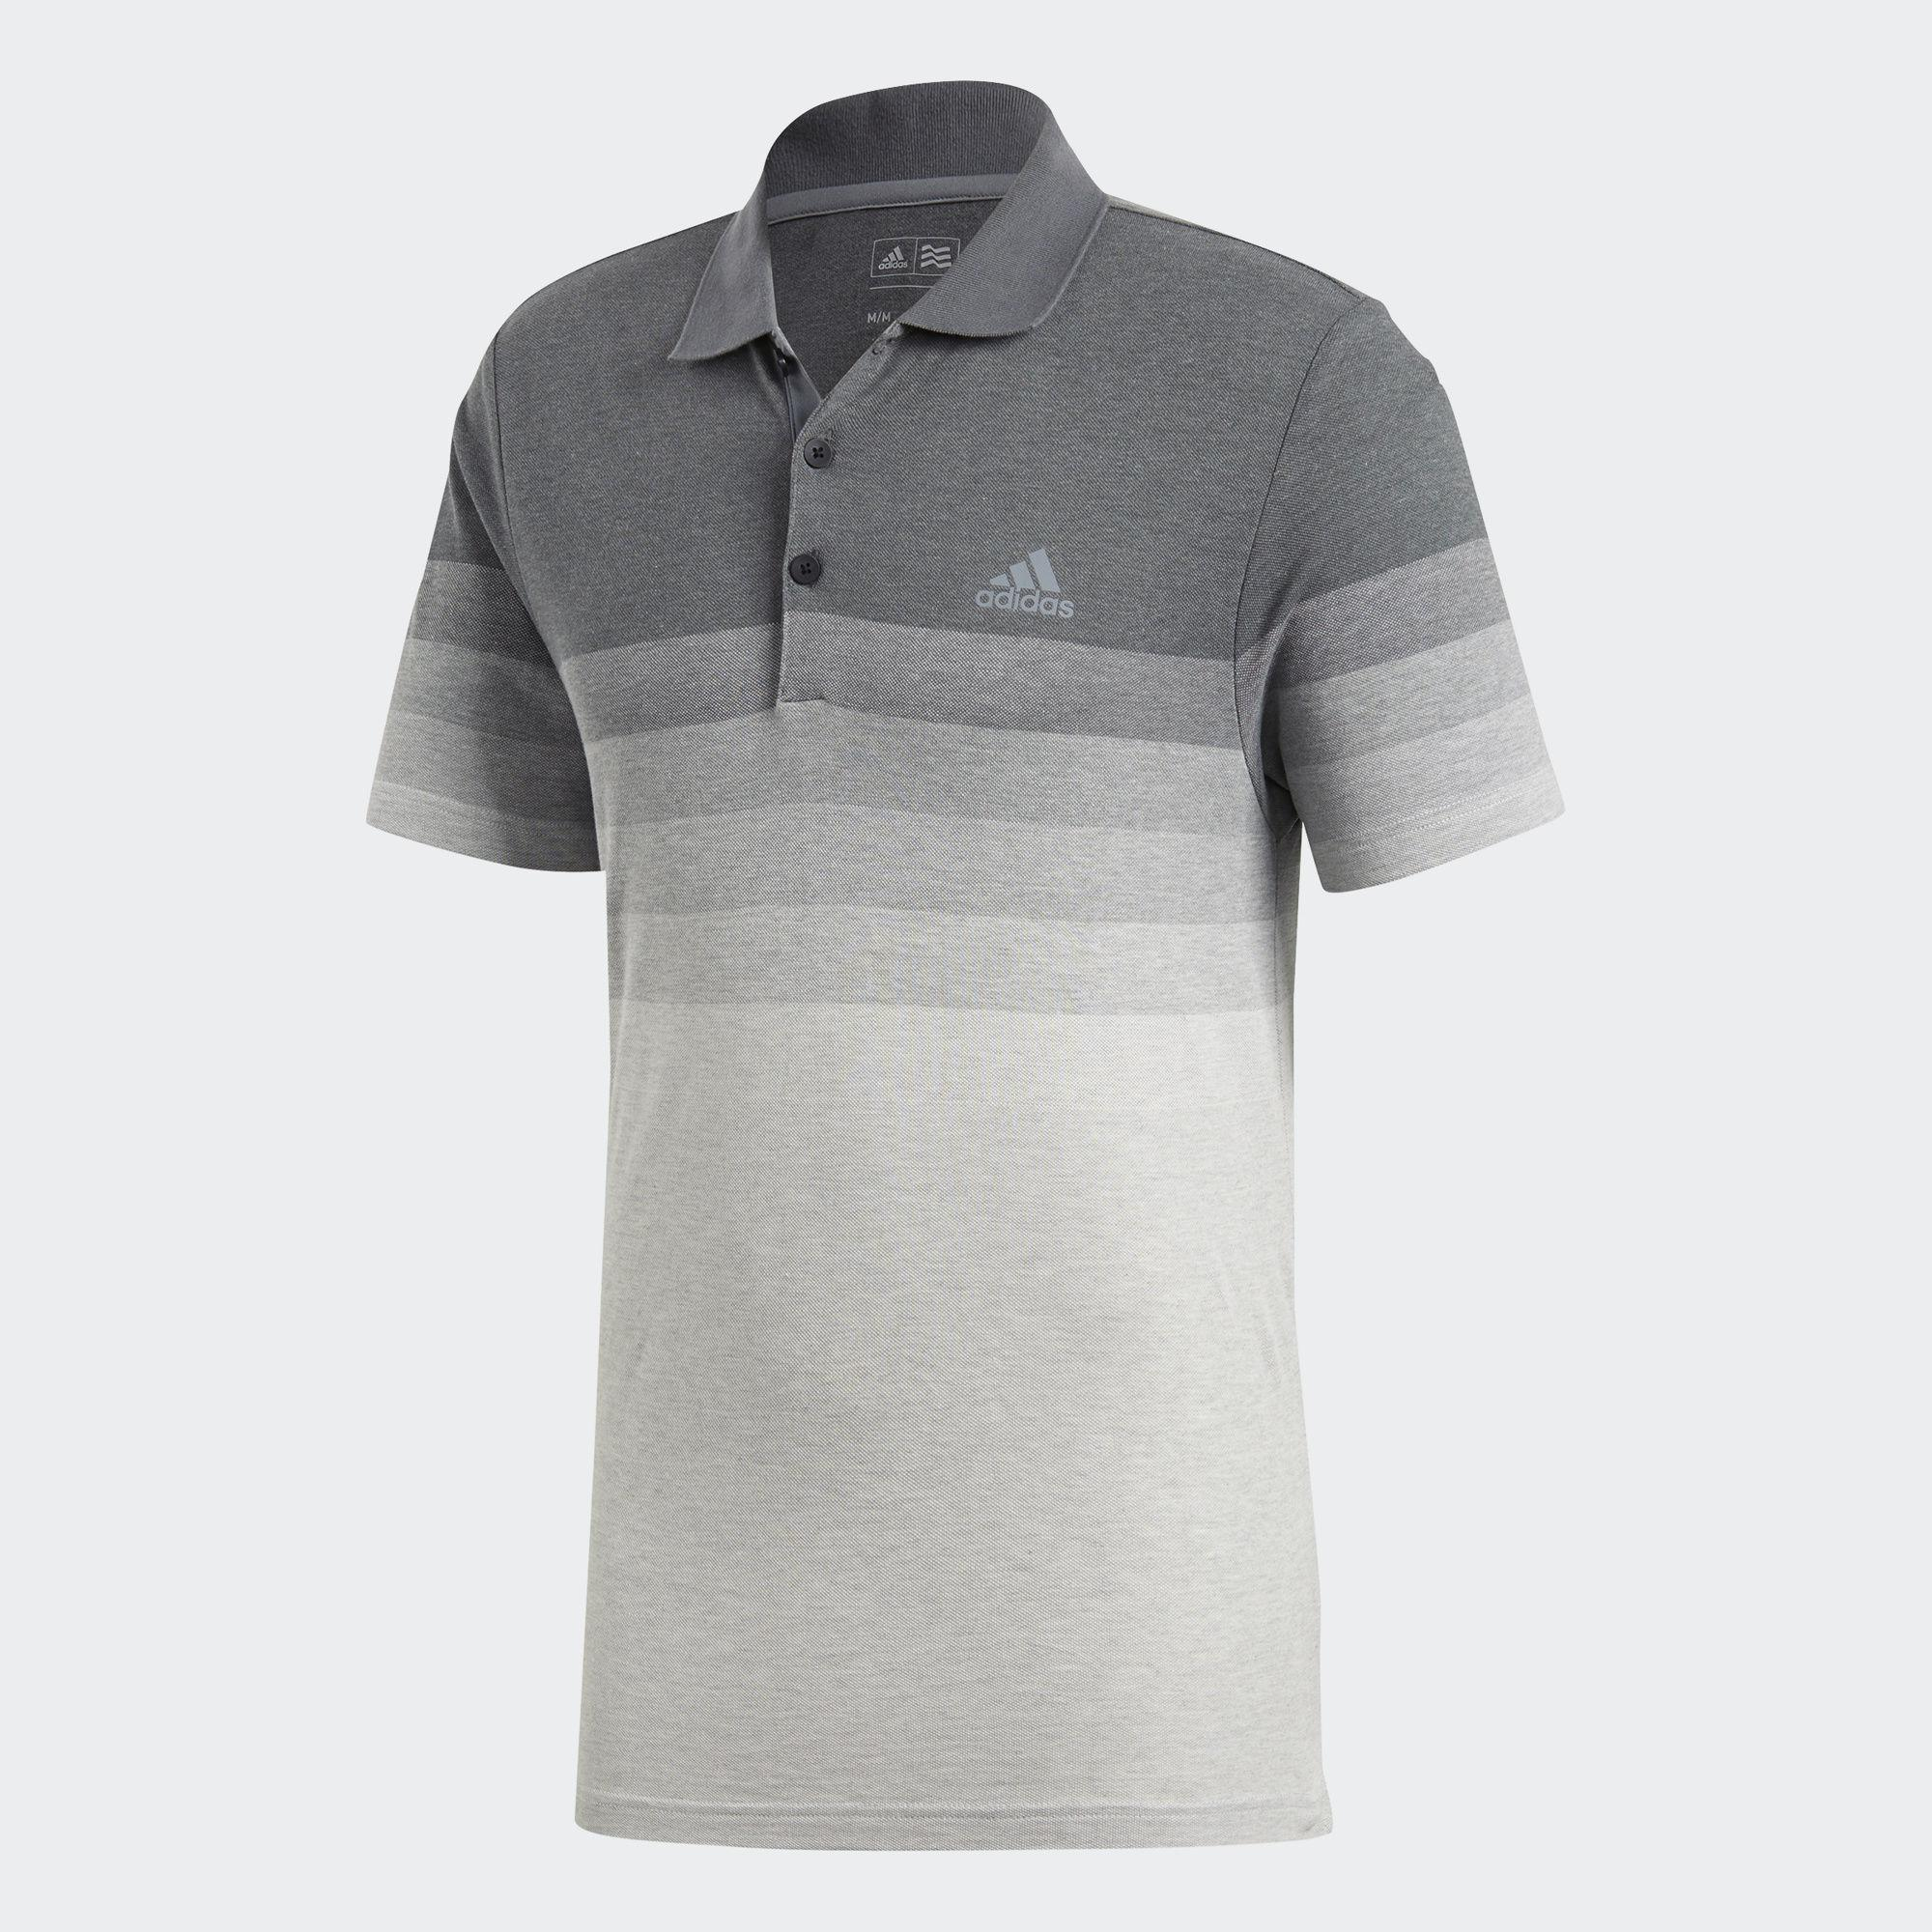teeshirt: (288, 67, 1592, 1932)
